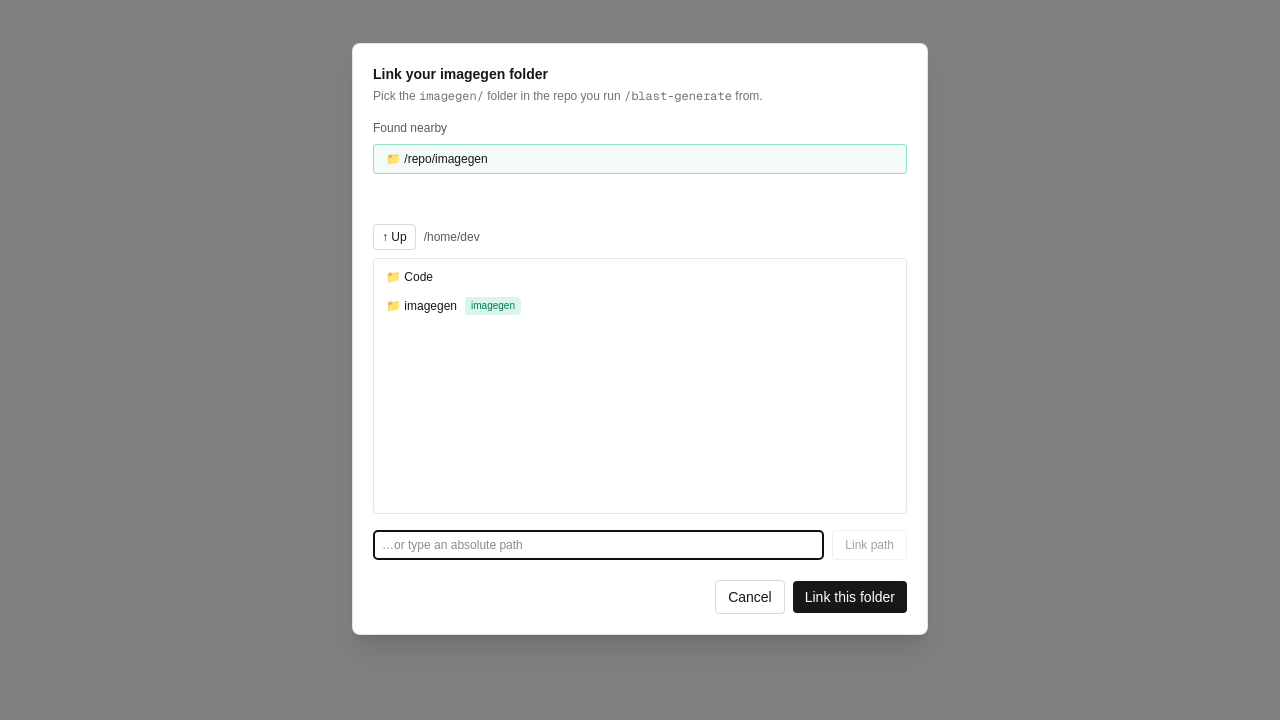
it: a folder another project owns (BI-047) › names the owning project and stays open instead of linking
Click the button "📁 /repo/imagegen".
click(446, 159)  # box [373,144,907,174]
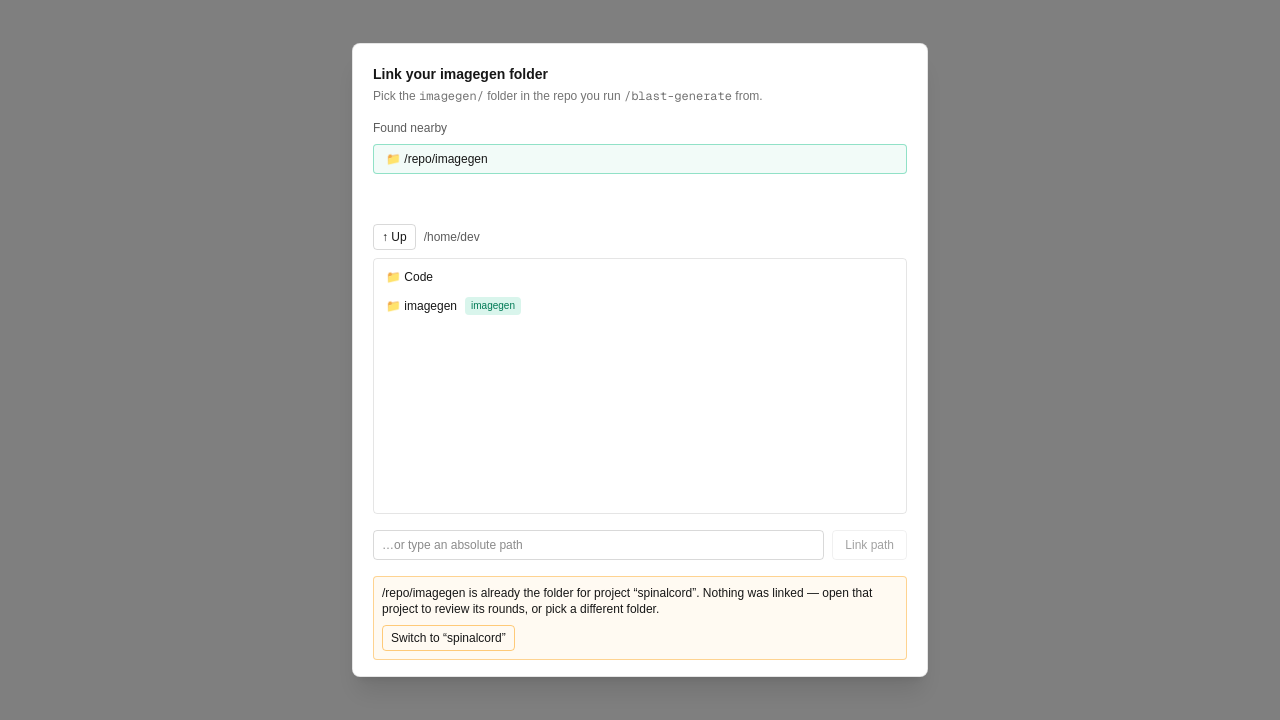
Expected: the dialog named "Link imagegen folder" is shown, [352,43,928,677]
Now the message shows "/repo/imagegen", box [382,586,465,600]
Now the message shows "spinalcord", box [638,586,692,600]
